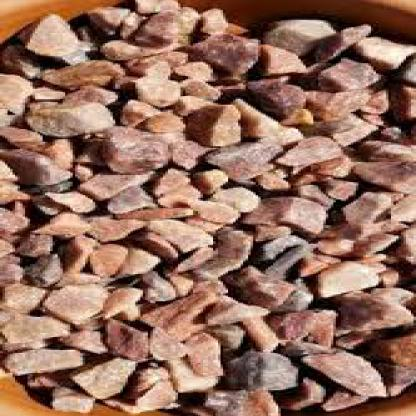Metamorphic_Quartize: (293, 337, 396, 393), (80, 121, 183, 174), (206, 126, 303, 176), (251, 10, 338, 63), (260, 190, 346, 242), (148, 210, 223, 261), (313, 261, 396, 303), (313, 47, 376, 98)
